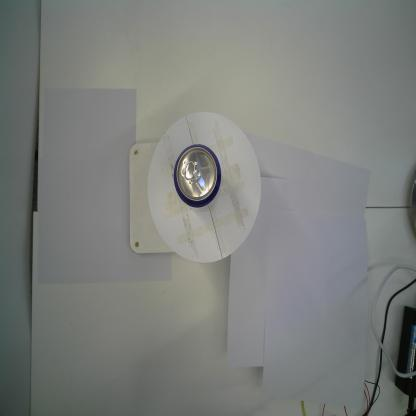Alcohol: (172, 143, 222, 209)
